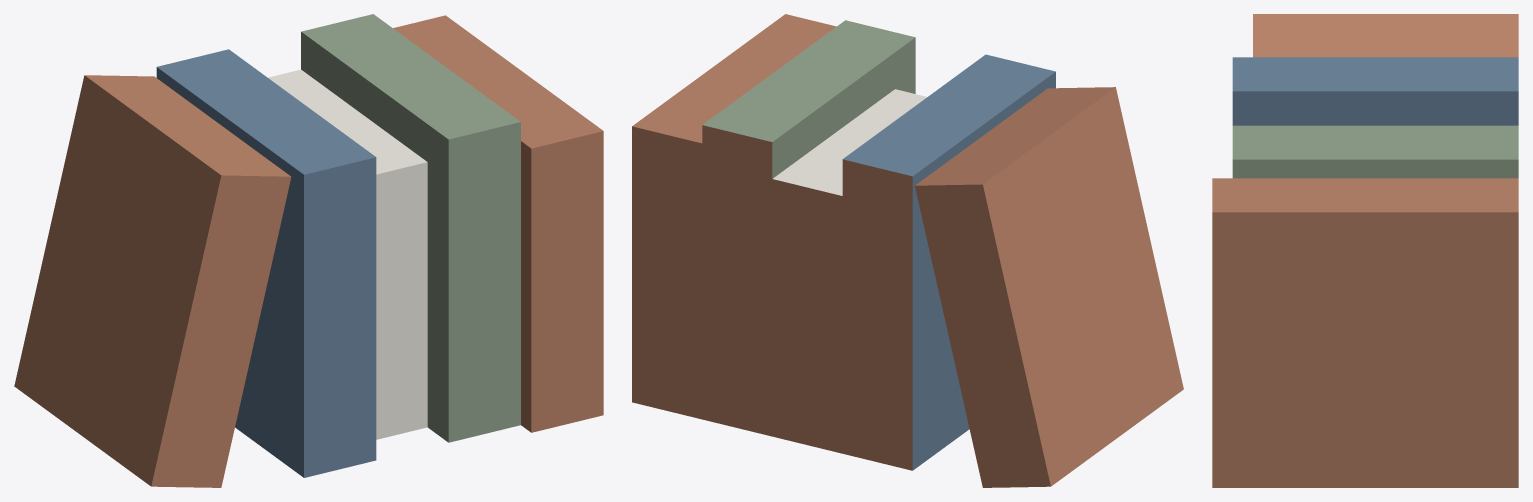
Rendered from books.glb.
The picture shows the model from 3 angles, left to right: view 1: azimuth 30°, elevation 25°; view 2: azimuth 150°, elevation 25°; view 3: azimuth 270°, elevation 25°; orthographic projection. The views are drawn at different scales.
Visible parts, largest first — view 1: books; view 2: books; view 3: books.
Part boxes in pixels (left/top/right/bottom): books: left=14, top=14, right=603, bottom=487; books: left=632, top=14, right=1183, bottom=487; books: left=1212, top=14, right=1518, bottom=487.
Bounding box in the file's own units: 0.26 × 0.18 × 0.165.
